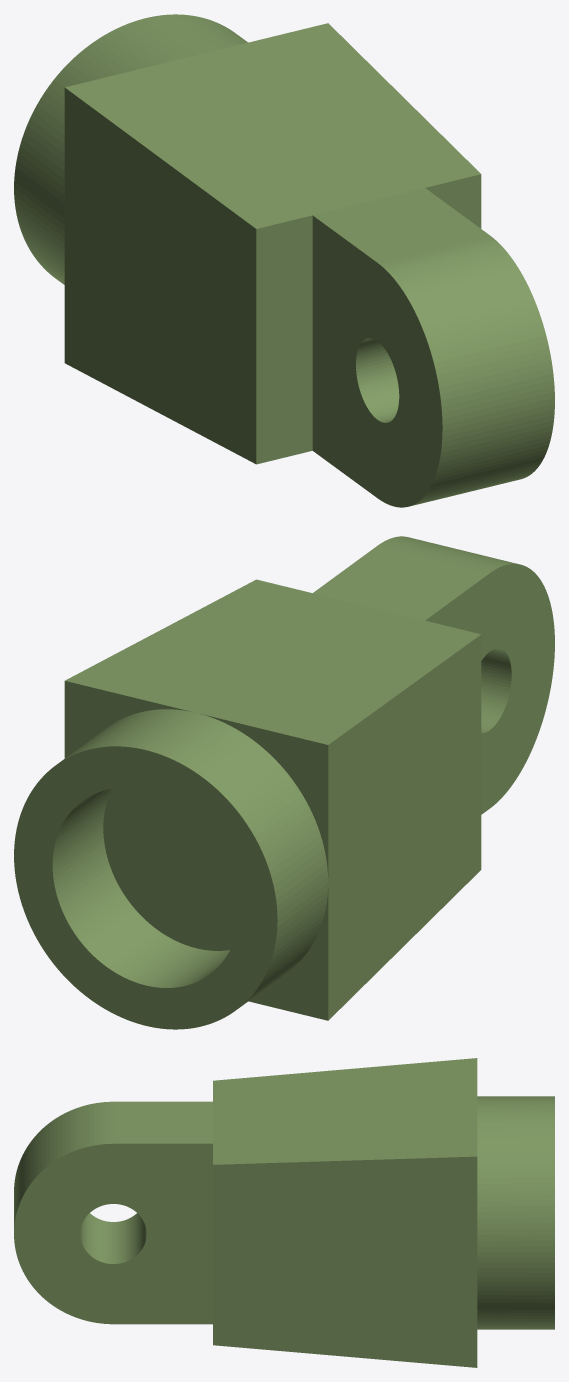
3 views of the same model, one above another, from view 1: azimuth 30°, elevation 25°; view 2: azimuth 150°, elevation 25°; view 3: azimuth 270°, elevation 25° (orthographic). The views are drawn at different scales.
Visible parts, largest first — view 1: node; view 2: node; view 3: node.
Boxes of the visible parts, bbox=[...] form: node: bbox=[14, 14, 554, 507]; node: bbox=[14, 536, 554, 1029]; node: bbox=[14, 1058, 554, 1367].
Bounding box in the file's own units: 0.0883 × 0.0883 × 0.2048.
